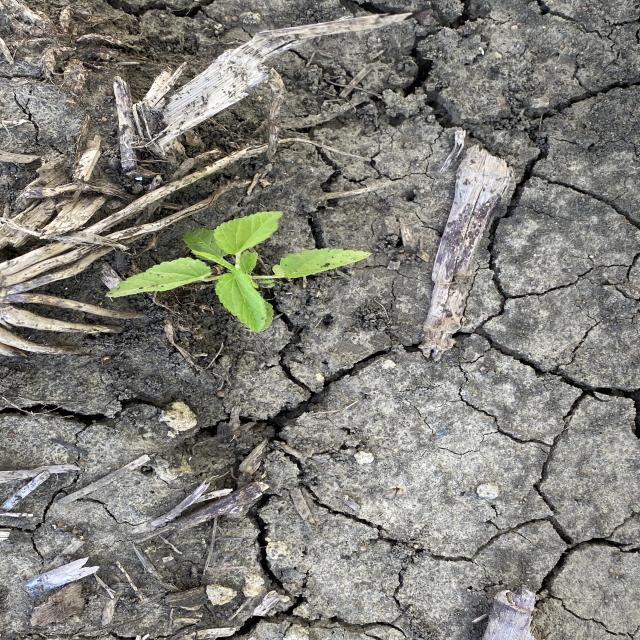PricklySida: (104, 210, 374, 336)
